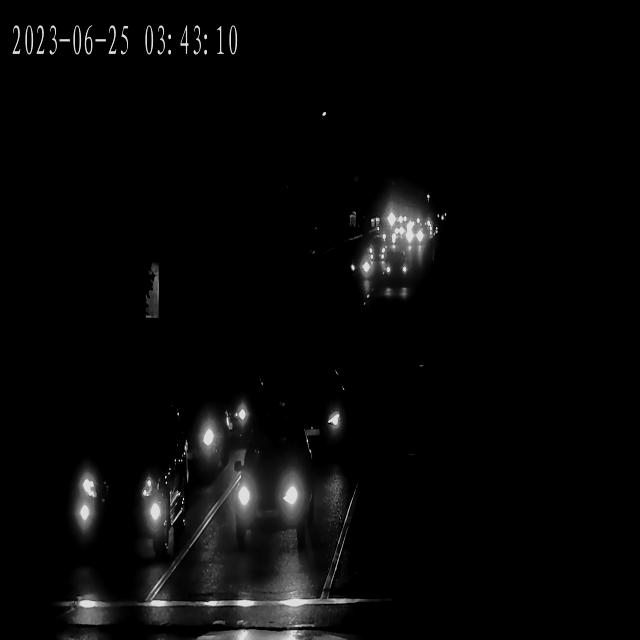Car: (55, 412, 186, 534), (232, 426, 312, 560), (269, 370, 356, 460), (152, 388, 229, 478), (212, 351, 269, 436), (380, 251, 408, 288), (349, 242, 376, 276), (381, 257, 409, 285), (380, 224, 400, 251), (406, 228, 430, 248), (405, 225, 424, 249)
